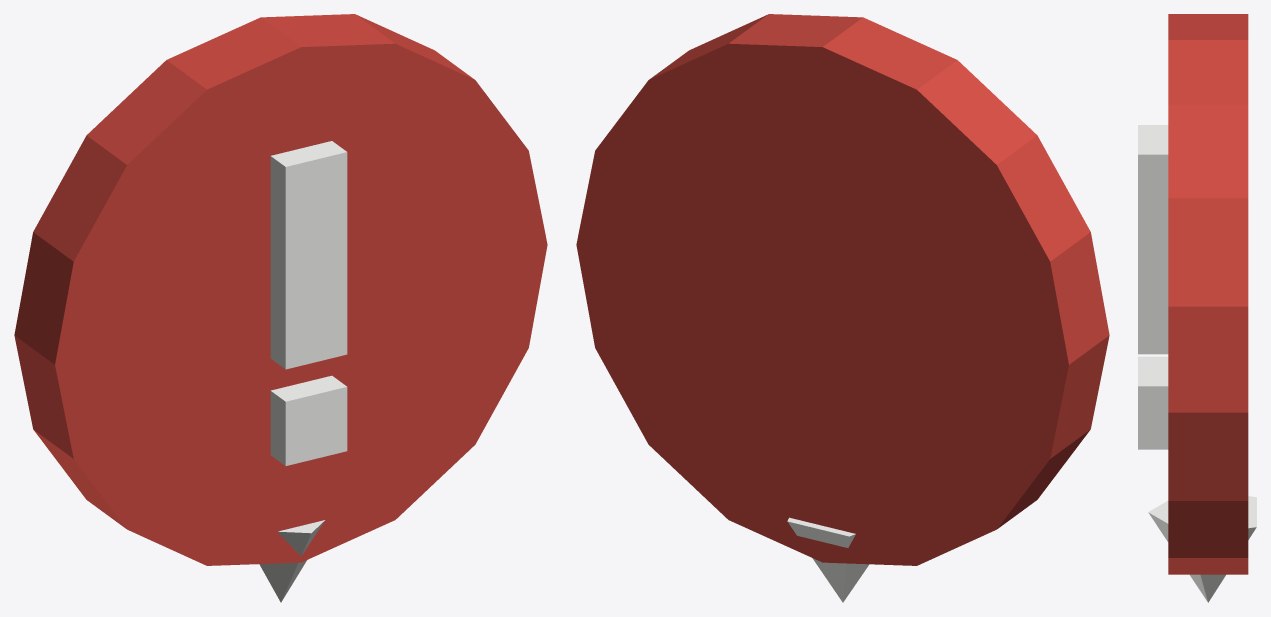
The model's file is marker_alert.glb.
3 views of the same model, side by side, from view 1: azimuth 30°, elevation 25°; view 2: azimuth 150°, elevation 25°; view 3: azimuth 270°, elevation 25° (orthographic).
Visible parts, largest first — view 1: marker_alert_disc, marker_alert; view 2: marker_alert_disc, marker_alert; view 3: marker_alert_disc, marker_alert.
Part boxes in pixels (x1,y1,x2,y2): marker_alert_disc: (14, 14, 547, 565); marker_alert: (259, 141, 347, 602); marker_alert_disc: (576, 14, 1109, 565); marker_alert: (787, 517, 869, 602); marker_alert_disc: (1168, 14, 1248, 574); marker_alert: (1138, 125, 1256, 602).
Bounding box in the file's own units: 0.28 × 0.31 × 0.0593.
2 materials, 1 textured.
